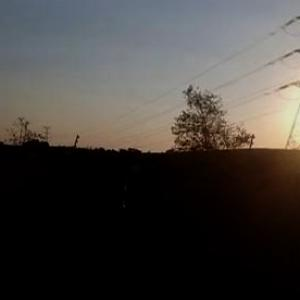follow: (75, 161, 152, 299)
